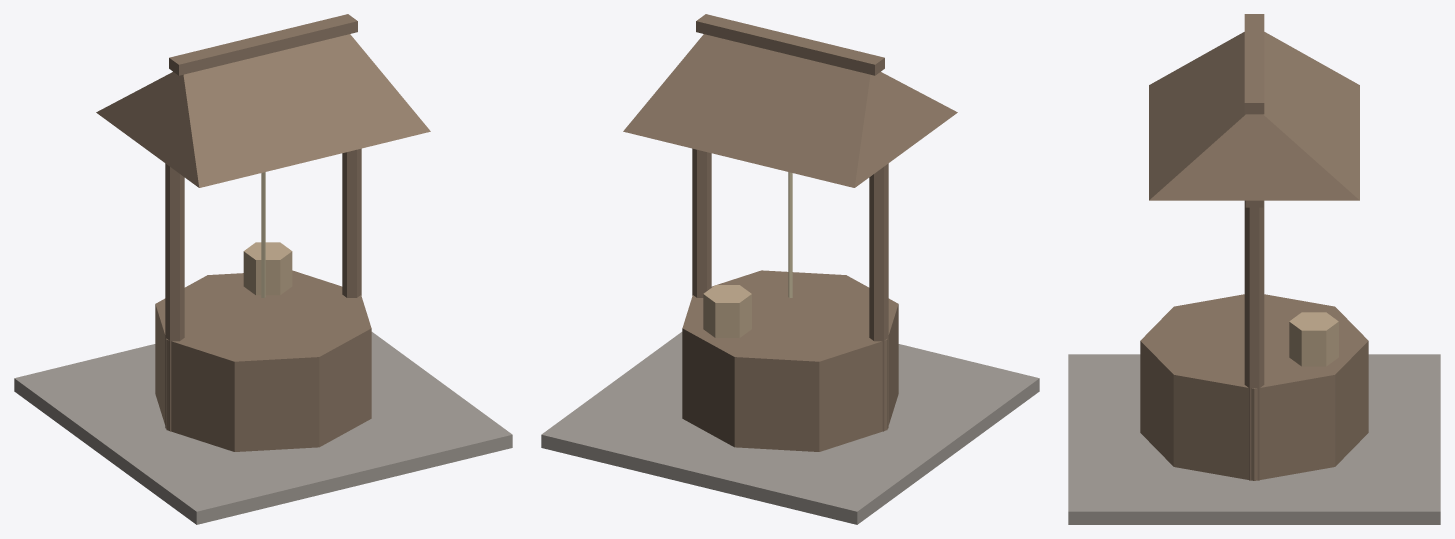
The model's file is service_communal_well.glb.
The picture shows the model from 3 angles, left to right: view 1: azimuth 30°, elevation 25°; view 2: azimuth 150°, elevation 25°; view 3: azimuth 270°, elevation 25°; orthographic projection.
Parts seen in each view (by area): view 1: Cobble_Paving, Well_Rim, Well_Roof, Well_Ridge, Post_L, Post_R, Bucket, Rope; view 2: Cobble_Paving, Well_Rim, Well_Roof, Well_Ridge, Post_L, Post_R, Bucket, Rope; view 3: Cobble_Paving, Well_Rim, Well_Roof, Post_R, Bucket, Well_Ridge.
Part boxes in pixels (<box>): Cobble_Paving: <box>14,332,512,524</box>; Well_Rim: <box>155,270,371,451</box>; Well_Roof: <box>96,34,430,187</box>; Well_Ridge: <box>169,14,357,75</box>; Post_L: <box>165,163,184,431</box>; Post_R: <box>342,148,361,297</box>; Bucket: <box>243,242,292,295</box>; Rope: <box>261,172,265,297</box>; Cobble_Paving: <box>541,332,1039,524</box>; Well_Rim: <box>682,270,898,451</box>; Well_Roof: <box>623,34,957,187</box>; Well_Ridge: <box>696,14,884,75</box>; Post_L: <box>869,163,888,431</box>; Post_R: <box>692,148,711,297</box>; Bucket: <box>703,285,751,337</box>; Rope: <box>788,172,792,297</box>; Cobble_Paving: <box>1068,354,1440,524</box>; Well_Rim: <box>1140,294,1368,480</box>; Well_Roof: <box>1149,32,1359,200</box>; Post_R: <box>1244,200,1264,480</box>; Bucket: <box>1289,312,1338,366</box>; Well_Ridge: <box>1244,14,1264,114</box>.
Size of the model in its own units: 1.5 by 1.73 by 1.5.
